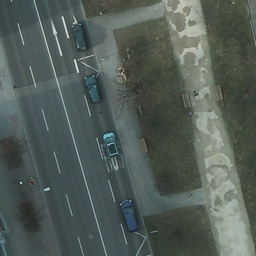car: (119, 198, 141, 231), (84, 74, 103, 104), (70, 21, 88, 52), (103, 132, 120, 159)
